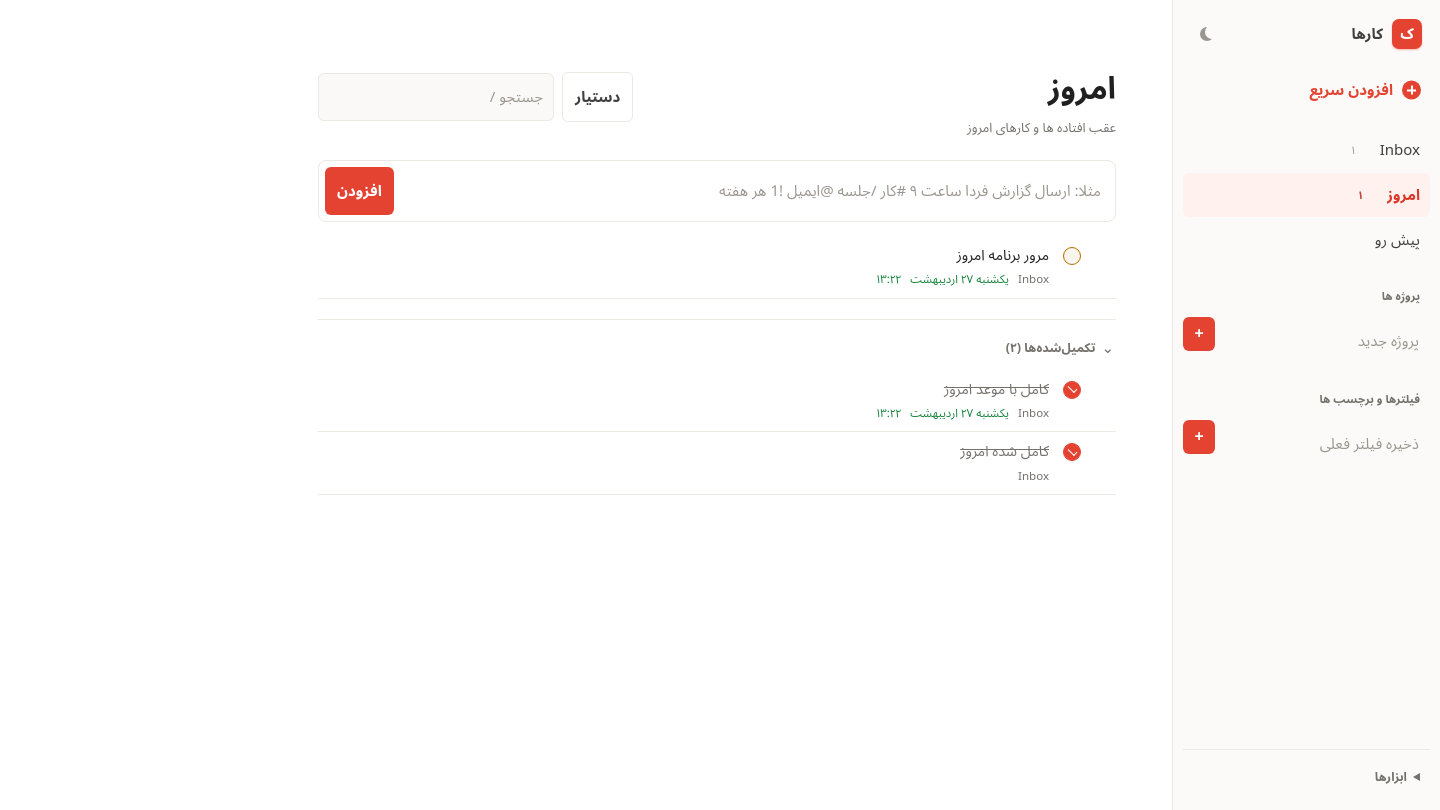
it: App › shows today completed tasks under a collapsible completed separator
expect the text "مرور برنامه امروز" is shown: met, box [956, 245, 1049, 267]
expect the text "تکمیل‌شده‌ها (۲)" is shown: met, box [1006, 334, 1096, 360]
Step 1. Click the button "⌄ تکمیل‌شده‌ها (۲)" → (1056, 348), box [318, 318, 1116, 368]
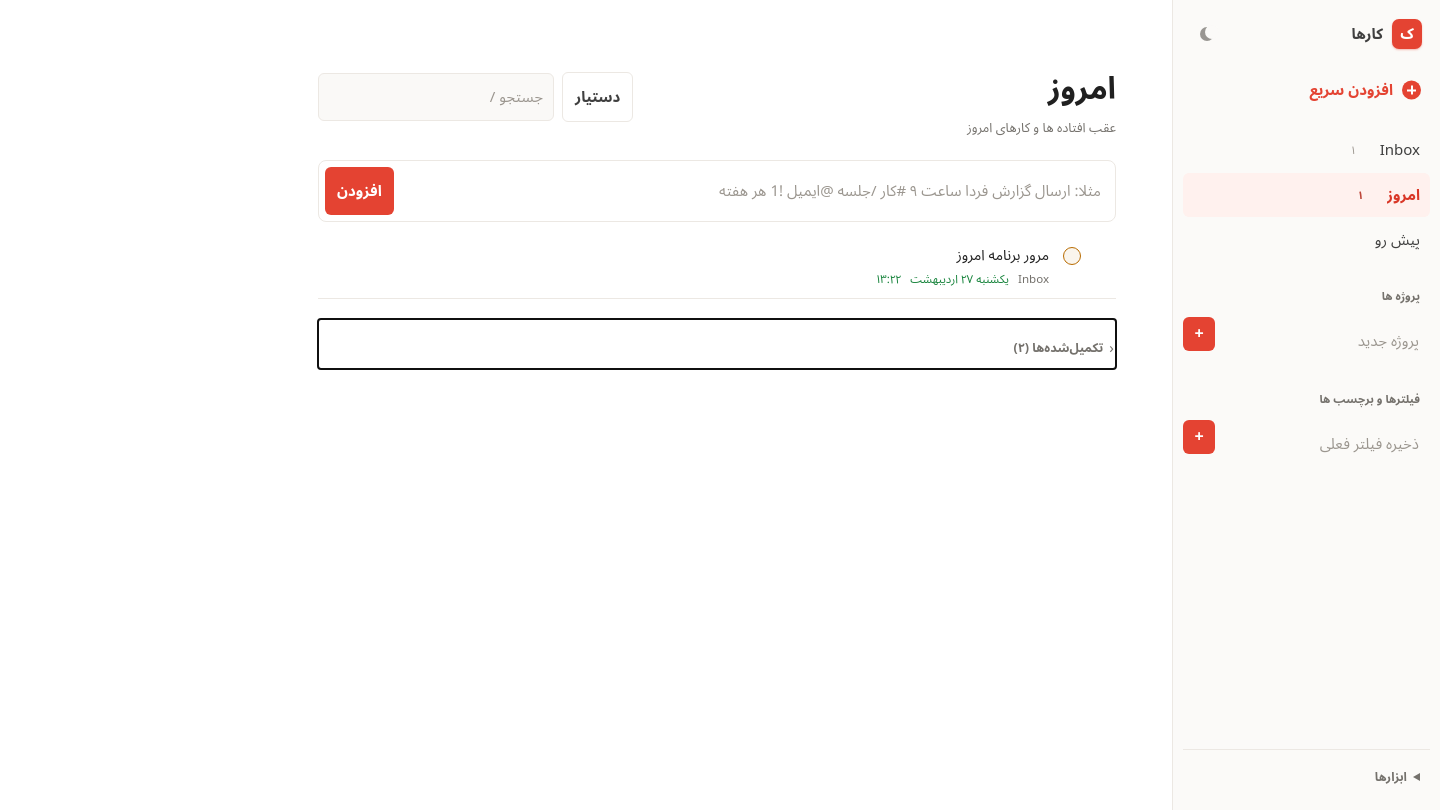
expect the text "کامل با موعد امروز" is gone: met
